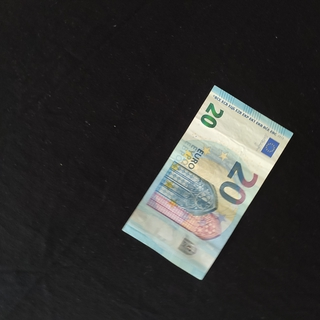20EUROFront: (120, 84, 294, 281)
